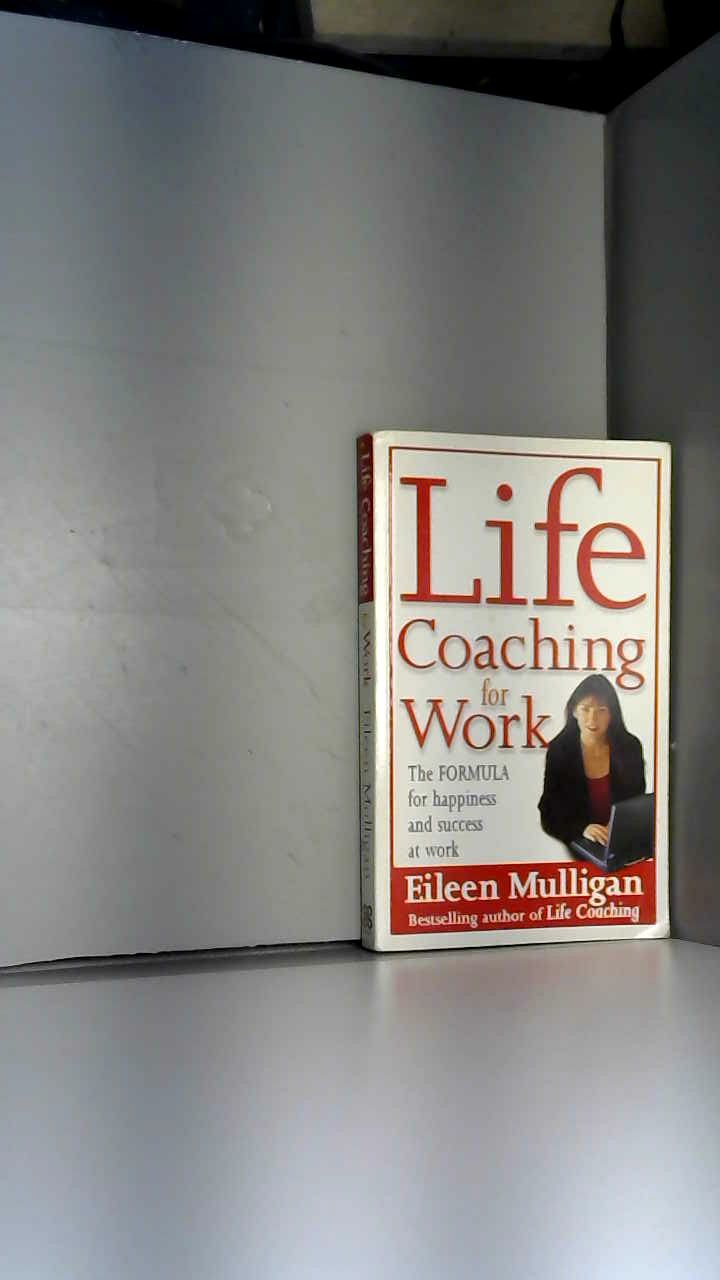book: (314, 387, 707, 985)
